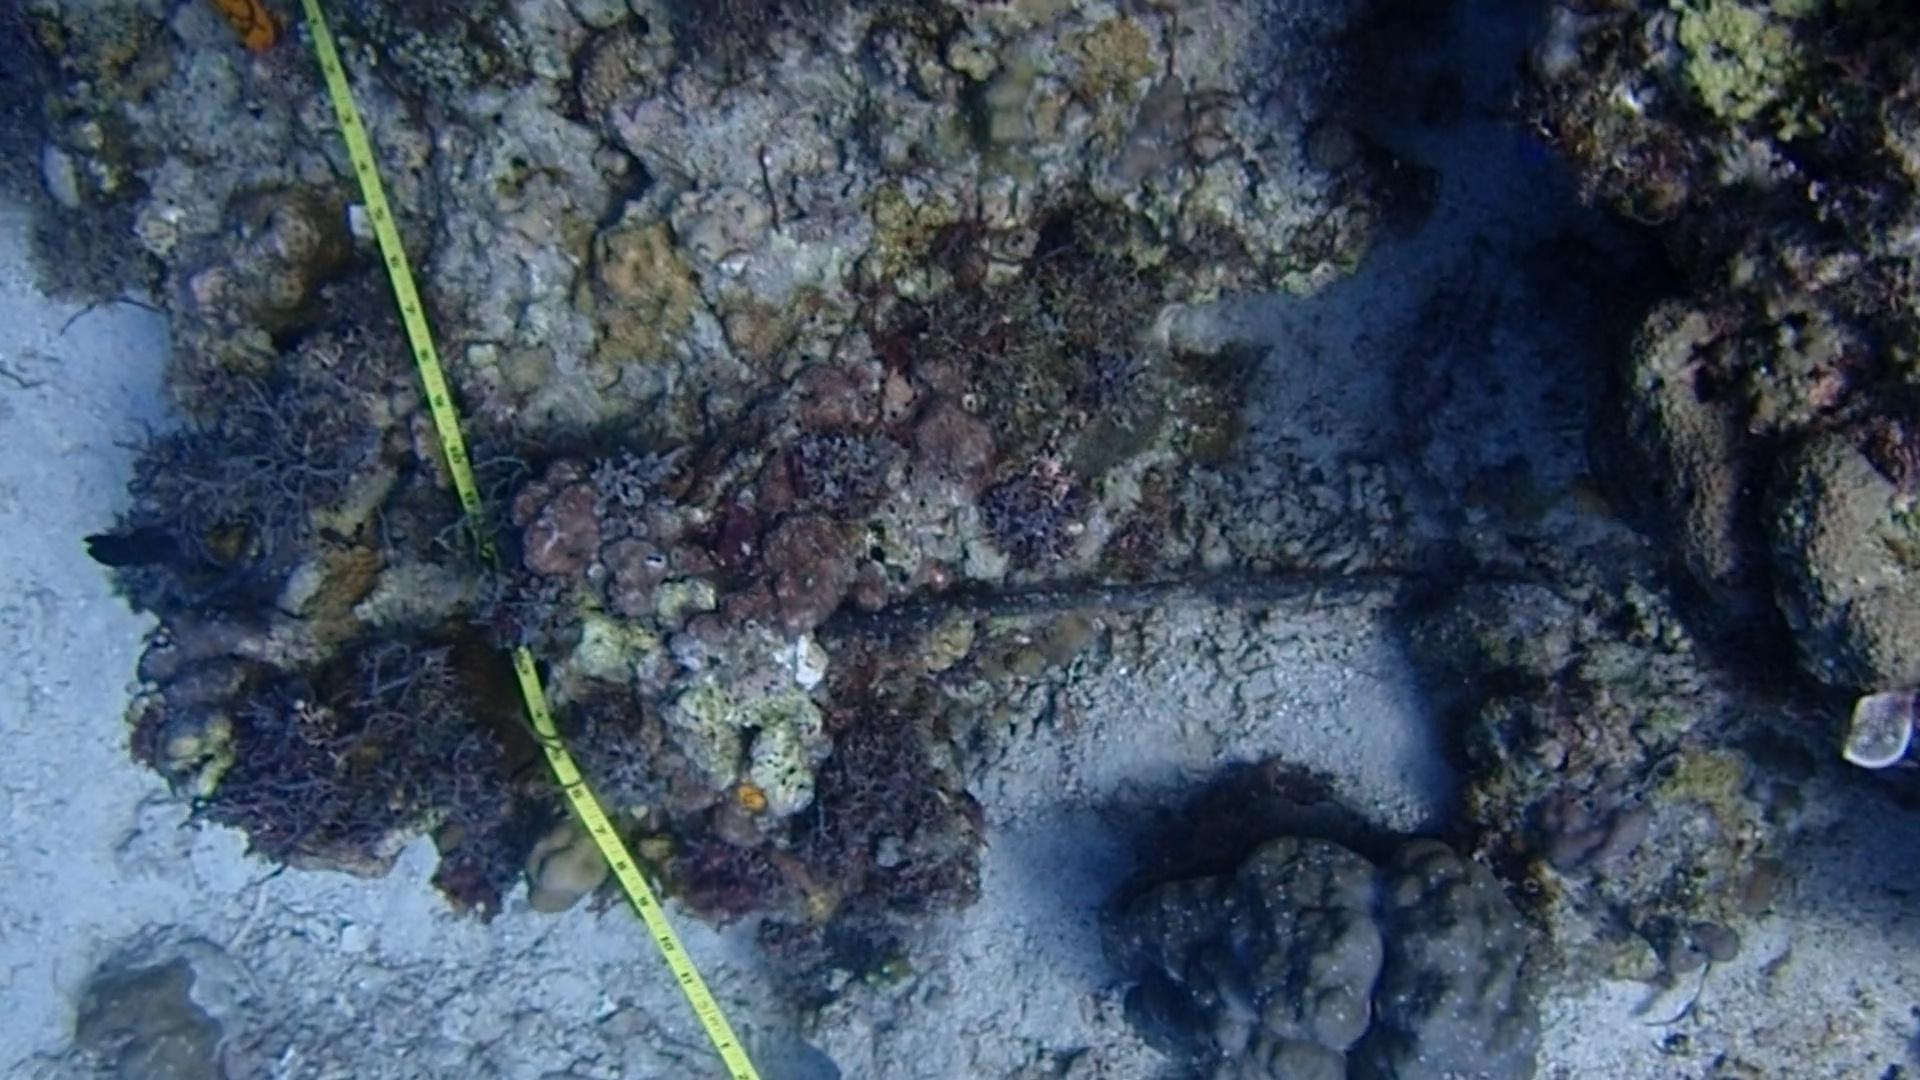Dark Fish: (69, 508, 190, 582)
